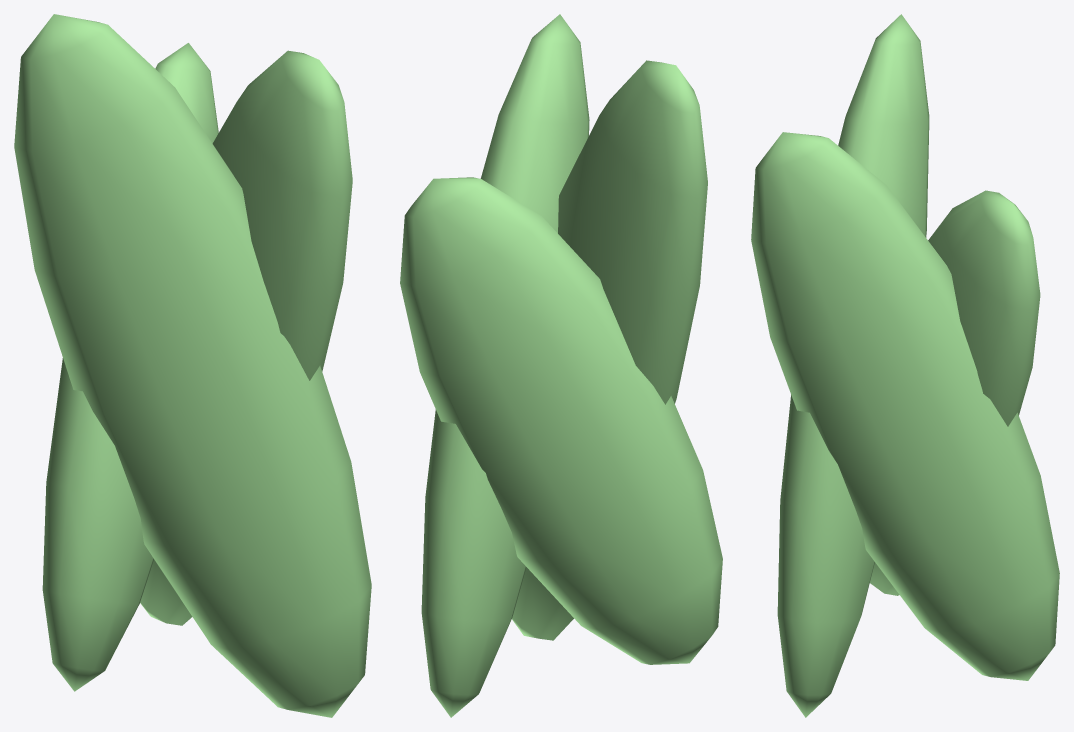
The model's file is grass_tuft.glb.
The picture shows the model from 3 angles, left to right: view 1: azimuth 30°, elevation 25°; view 2: azimuth 150°, elevation 25°; view 3: azimuth 270°, elevation 25°; orthographic projection. The views are drawn at different scales.
Parts seen in each view (by area): view 1: Blade_2, Blade_0, Blade_1; view 2: Blade_1, Blade_2, Blade_0; view 3: Blade_0, Blade_2, Blade_1.
Boxes of the visible parts, <box> form: Blade_2: <box>14,14,371,717</box>; Blade_0: <box>140,50,352,625</box>; Blade_1: <box>42,43,218,691</box>; Blade_1: <box>400,177,722,664</box>; Blade_2: <box>512,60,707,640</box>; Blade_0: <box>421,14,589,717</box>; Blade_0: <box>751,132,1059,680</box>; Blade_2: <box>777,14,929,717</box>; Blade_1: <box>870,190,1040,595</box>.
Size of the model in its own units: 0.2199 by 0.5279 by 0.2416.
